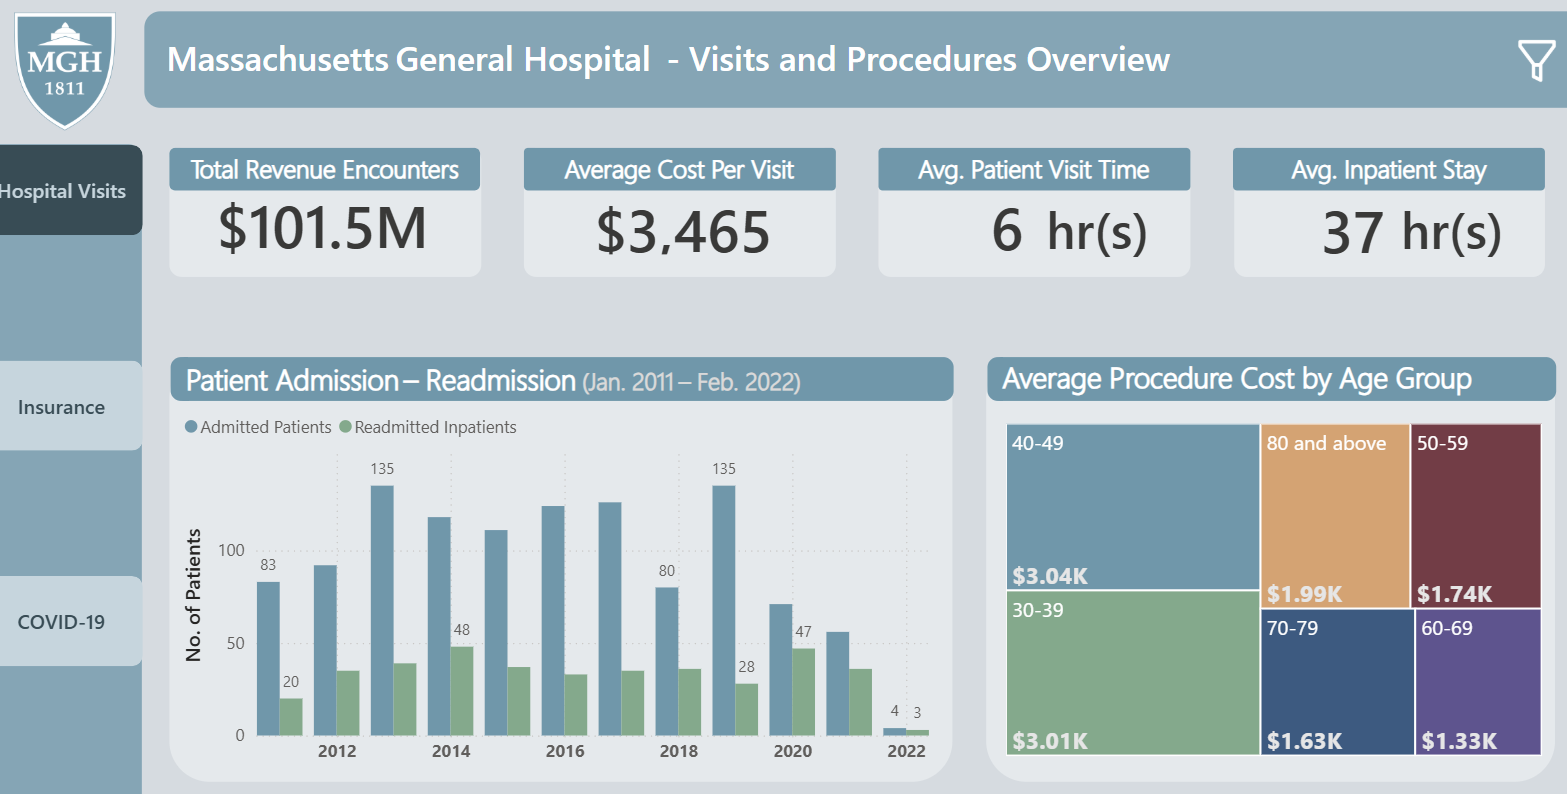

Layout of this report page (visuals, bound fields, positions):
{"tool":"powerbi","page":{"name":"Hospital Visits","canvas":[1280,720],"ordinal":0},"visuals":[{"type":"card","title":"AVG patient Encounter period in hours","fields":{"Values":["encounters.AVGPatientStayPeriod"]},"box":[767.1,168.6,105.7,55.7],"z":0},{"type":"clusteredColumnChart","title":"Patient Admission by Year","fields":{"Category":["encounters.STOP.Variation.Date Hierarchy.Year"],"Y":["encounters.TotalInpatientEncounters","encounters.ReadmittedInpatients"]},"box":[157.5,336.2,605,298.8],"z":1000},{"type":"card","fields":{"Values":["encounters.AVGcostPerVisitNOTinPatient"]},"box":[471.4,172.9,181.4,51.4],"z":2000},{"type":"card","title":"Average Inpatient stay period in Hours","fields":{"Values":["encounters.AVGINPatientStayPeriod"]},"box":[1046.2,167.5,98.8,62.5],"z":3000},{"type":"card","fields":{"Values":["encounters.TotalRevenueEncounters"]},"box":[162.5,163.8,222.5,62.5],"z":4000},{"type":"treemap","fields":{"Group":["patients.AGE BRACKET"],"Values":["procedures.AVGcostPerProcedure"]},"box":[813.8,348.8,437.5,275],"z":5000},{"type":"image","box":[1215.7,35.7,55.7,55.7],"z":6000},{"type":"pageNavigator","box":[0,131.4,130.2,417.4],"z":8000}]}

Visuals, with their boxes on the page's 1280x720 design canvas (x1, y1, x2, y2). These are canvas units, not pixel positions in the 1567x794 screenshot, which may show the page scaled, cropped or inside an application window:
"AVG patient Encounter period in hours" card: pyautogui.locateOnScreen(767, 169, 873, 224)
"Patient Admission by Year" clusteredColumnChart: pyautogui.locateOnScreen(158, 336, 762, 635)
card - encounters.AVGcostPerVisitNOTinPatient: pyautogui.locateOnScreen(471, 173, 653, 224)
"Average Inpatient stay period in Hours" card: pyautogui.locateOnScreen(1046, 168, 1145, 230)
card - encounters.TotalRevenueEncounters: pyautogui.locateOnScreen(162, 164, 385, 226)
treemap - patients.AGE BRACKET x procedures.AVGcostPerProcedure: pyautogui.locateOnScreen(814, 349, 1251, 624)
image: pyautogui.locateOnScreen(1216, 36, 1271, 91)
pageNavigator: pyautogui.locateOnScreen(0, 131, 130, 549)
